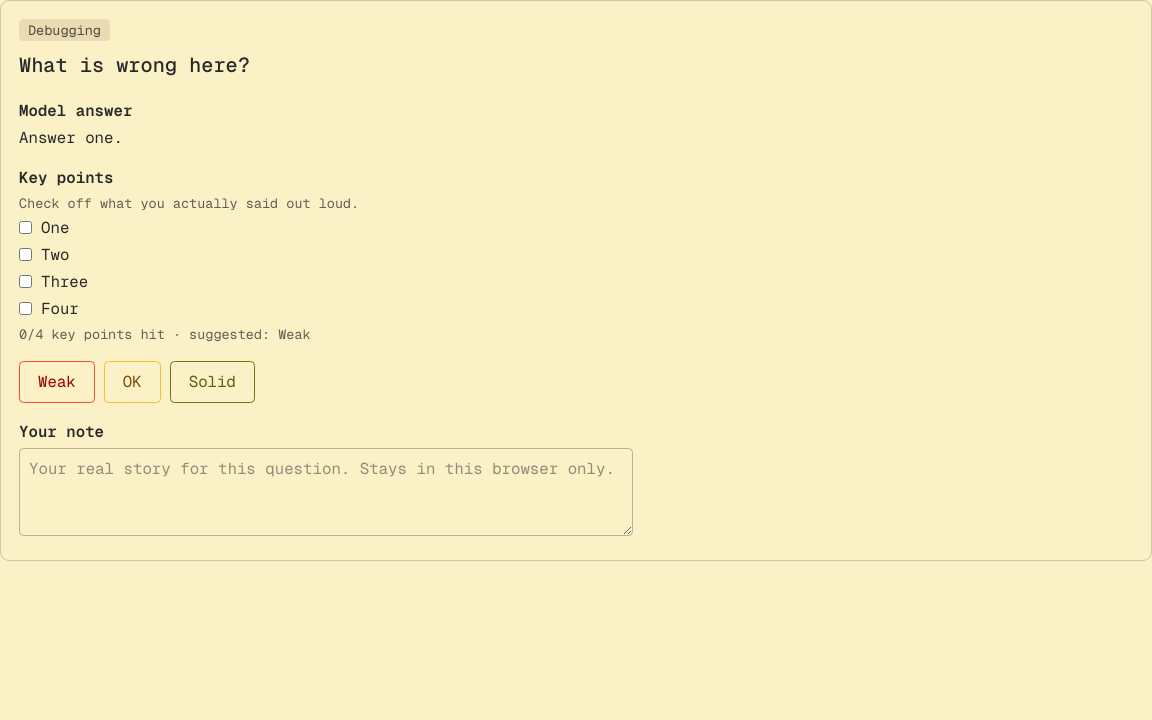
Scenario: QuestionCard key points checklist › fewer than half the key points suggests Weak, not OK
This screenshot has width=1152, height=720.
Click the checkbox labelled "One" at (26, 228), box [19, 222, 32, 234]
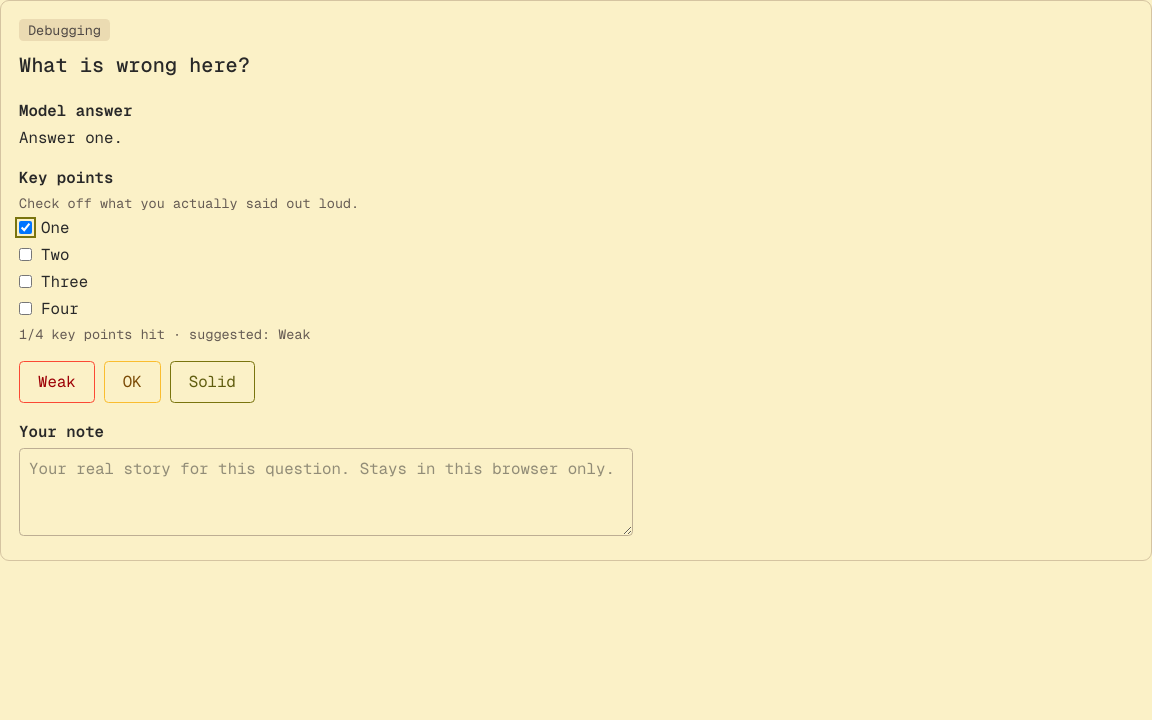
Check: the text "1/4 key points hit · suggested: Weak" is shown, box [19, 325, 311, 343]
Click the checkbox labelled "Two" at (26, 255), box [19, 248, 32, 262]
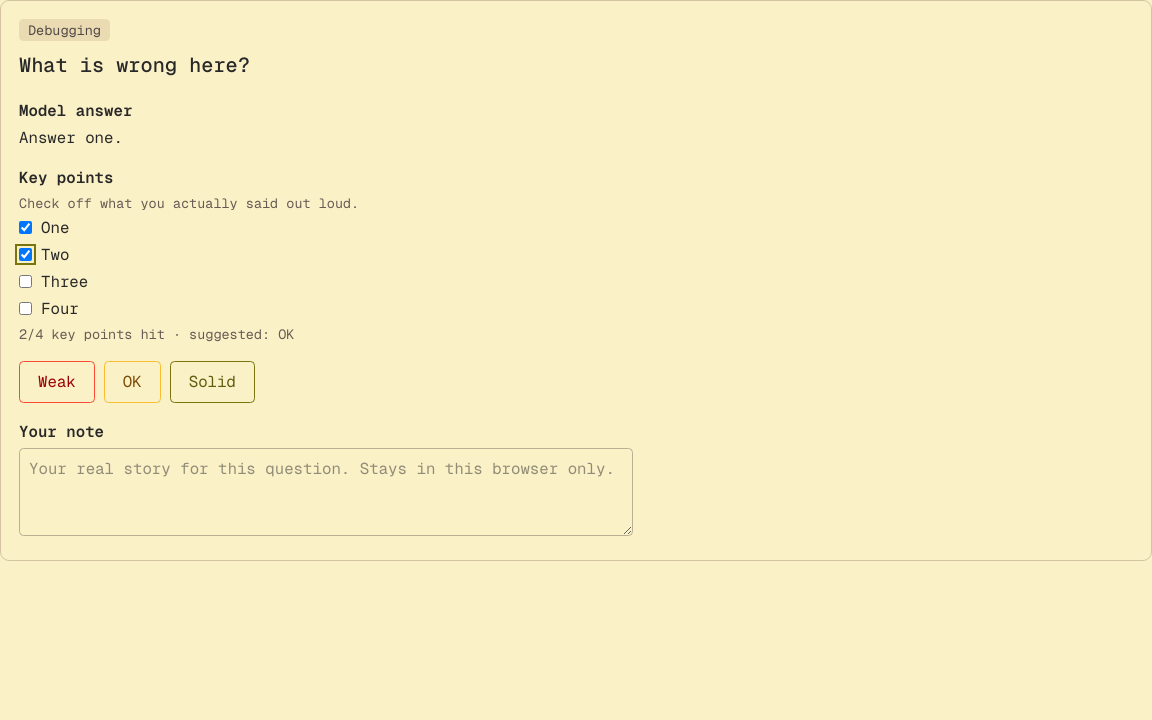
Check: the text "2/4 key points hit · suggested: OK" is shown, box [19, 325, 294, 343]
